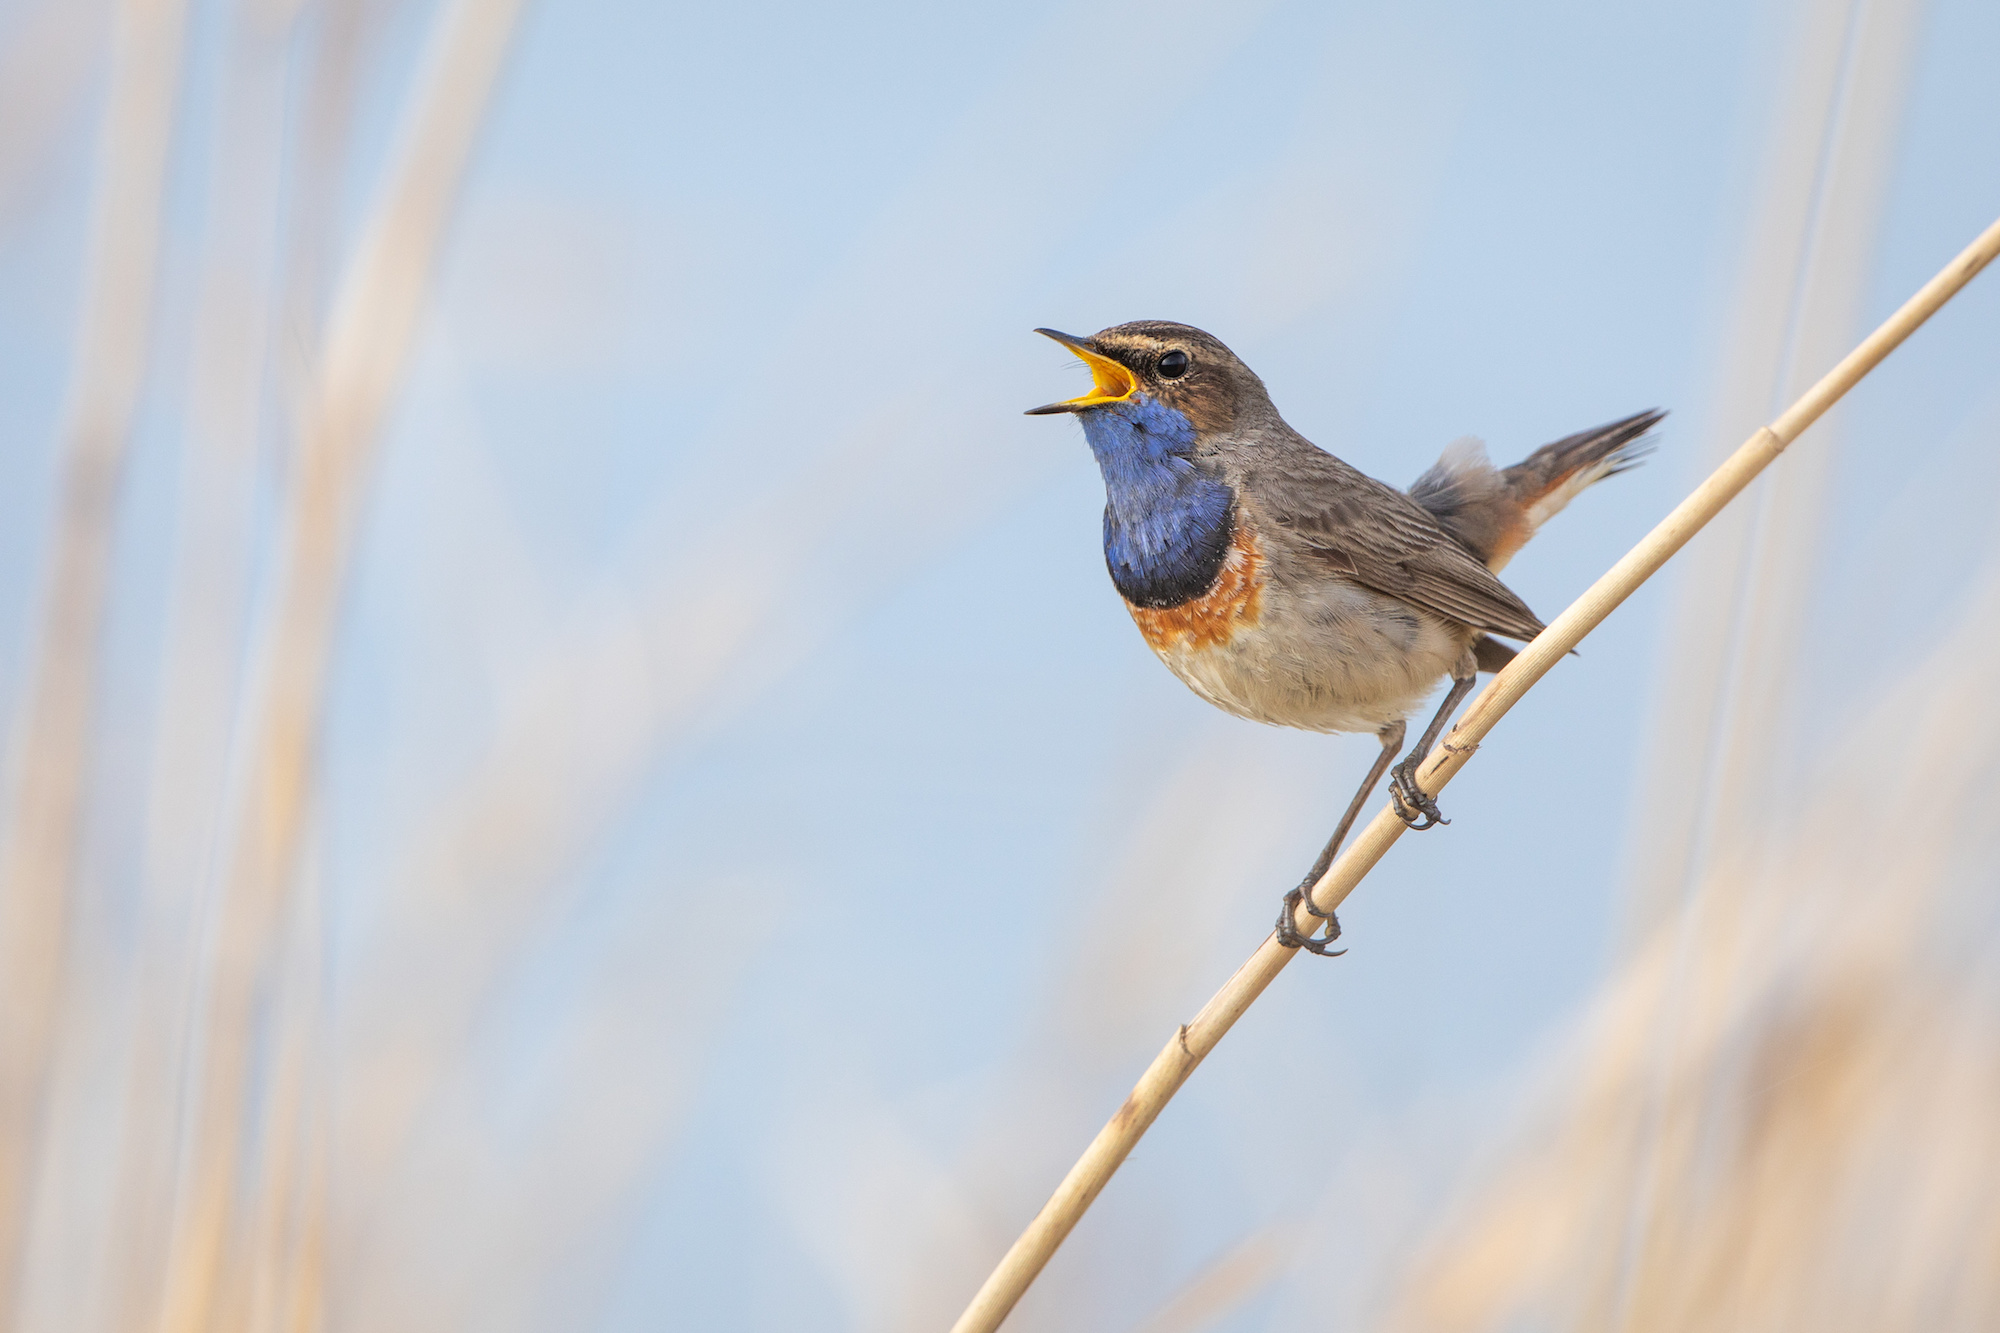bird: (1026, 318, 1668, 979)
